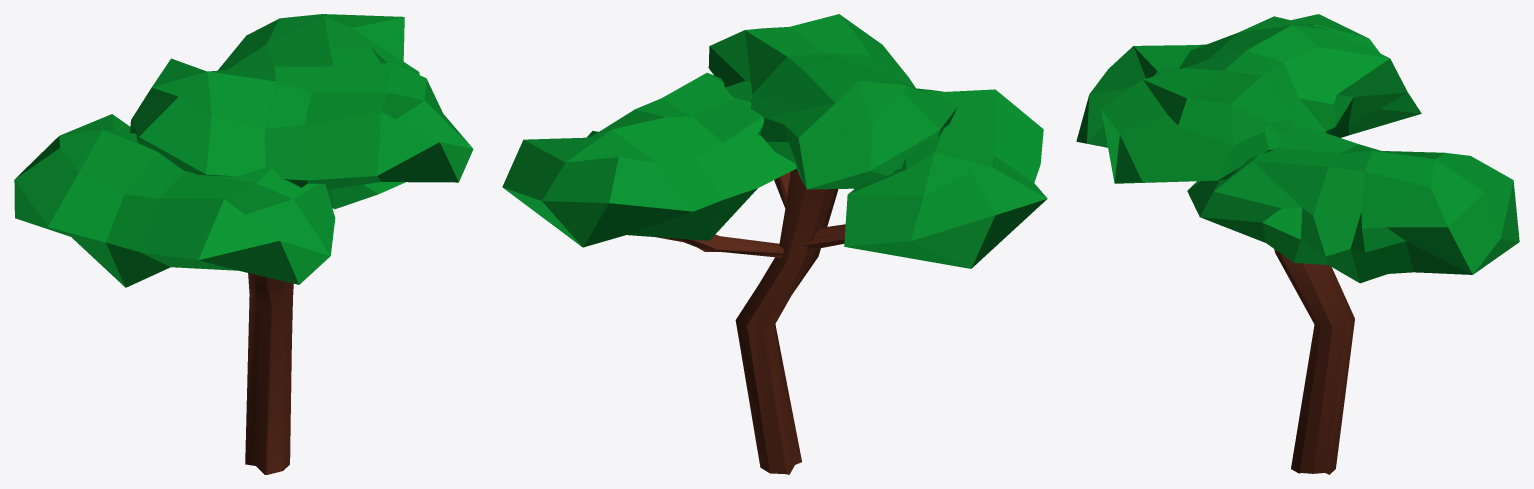
Rendered from Tree6.fbx.
3 views of the same model, side by side, from view 1: azimuth 30°, elevation 25°; view 2: azimuth 150°, elevation 25°; view 3: azimuth 270°, elevation 25° (orthographic). The views are drawn at different scales.
Visible parts, largest first — view 1: Tree6; view 2: Tree6; view 3: Tree6.
Boxes of the visible parts, left/top/right/bottom form: Tree6: left=14, top=14, right=473, bottom=474; Tree6: left=502, top=14, right=1047, bottom=474; Tree6: left=1076, top=14, right=1519, bottom=474.
Size of the model in its own units: 959 by 823 by 805.
